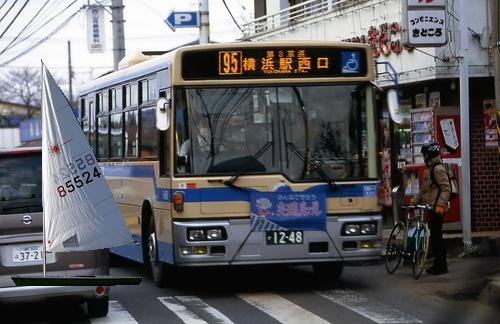tampered: (11, 60, 143, 286)
